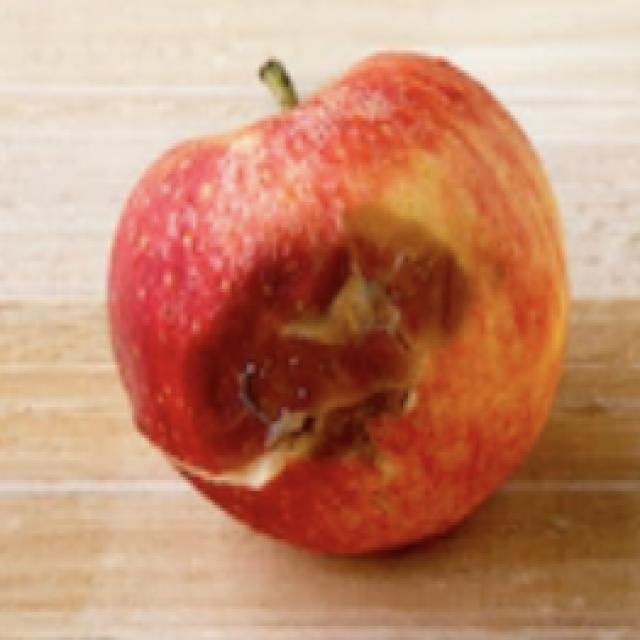Rotten: (122, 73, 583, 545)
